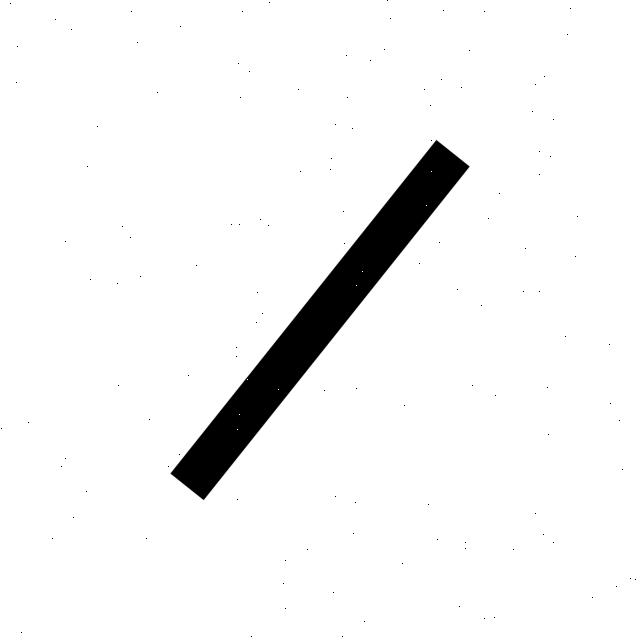line: (170, 140, 469, 500)
